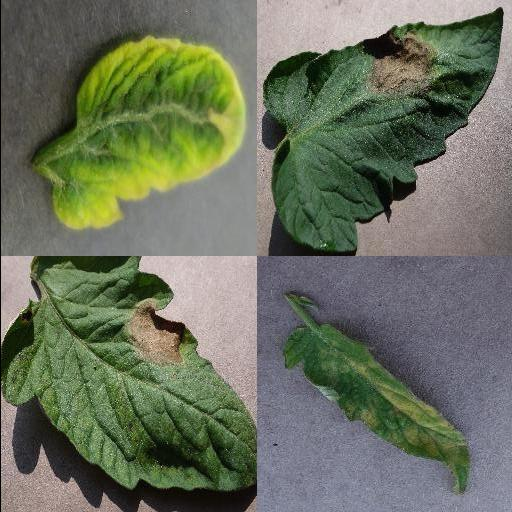Late Blight: (261, 5, 505, 255), (0, 256, 256, 492)
Leaf Mold: (284, 324, 470, 494)
Yellow Leaf Curl Virus: (31, 35, 245, 231)
